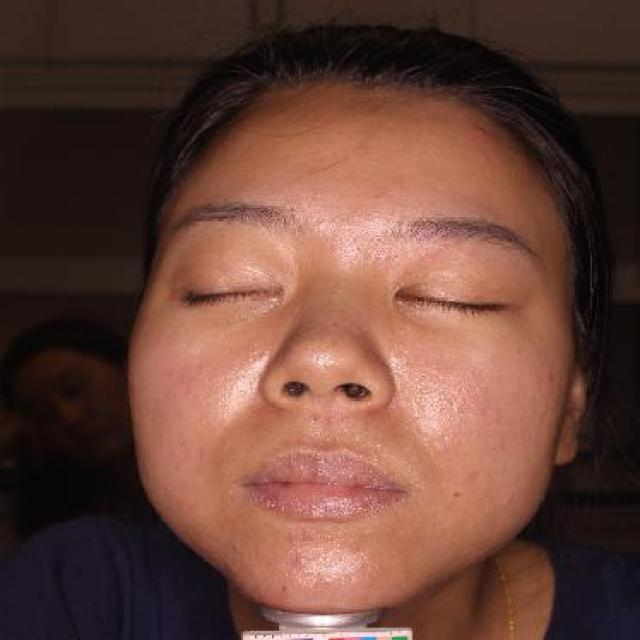blackheads: (304, 411, 322, 426), (313, 215, 329, 228)
papules: (467, 123, 493, 140)
whiteheads: (282, 525, 298, 540), (322, 576, 335, 590), (354, 560, 368, 572), (294, 556, 310, 566)
